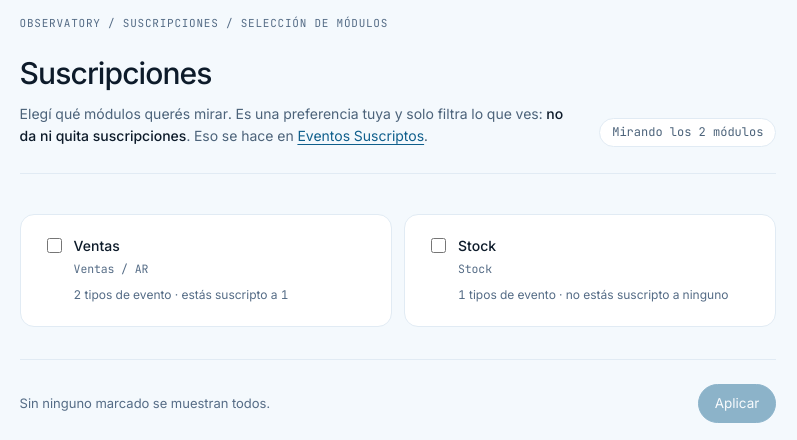
Test case: T-141: tildar y destildar cambia solo el borrador y avisa de cambios
This screenshot has width=797, height=440.
Click the checkbox labelled "Ventas Ventas / AR 2 tipos de evento · estás suscripto a 1".
click(54, 246)  # box [47,238,62,253]
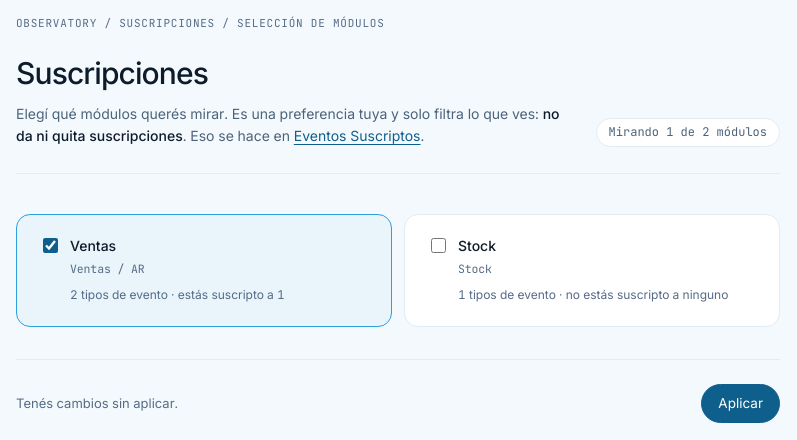
expect the checkbox labelled "Ventas Ventas / AR 2 tipos de evento · estás suscripto a 1" is checked: met
expect the text "Mirando 1 de 2 módulos" is shown: met, box [596,118,780,147]
expect the text "Tenés cambios sin aplicar." is shown: met, box [16,393,178,414]
Click the checkbox labelled "Ventas Ventas / AR 2 tipos de evento · estás suscripto a 1".
click(50, 246)  # box [43,238,58,253]
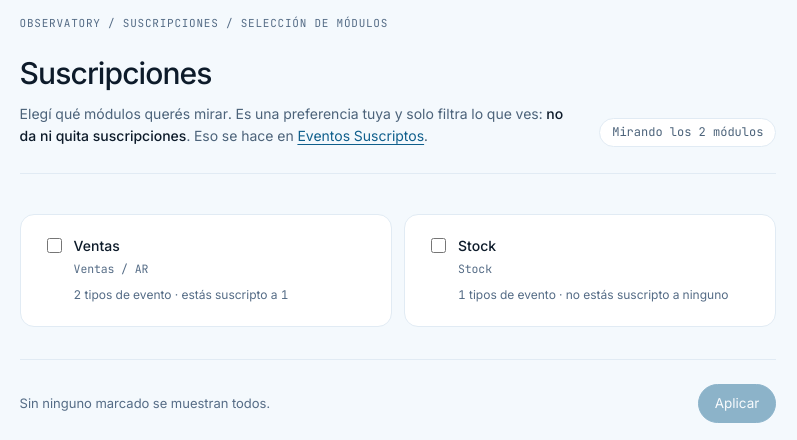
expect the checkbox labelled "Ventas Ventas / AR 2 tipos de evento · estás suscripto a 1" is not checked: met, box [47,238,62,253]
expect the text "Tenés cambios sin aplicar." is gone: met
expect the button "Aplicar" is disabled: met, box [698,384,776,423]
